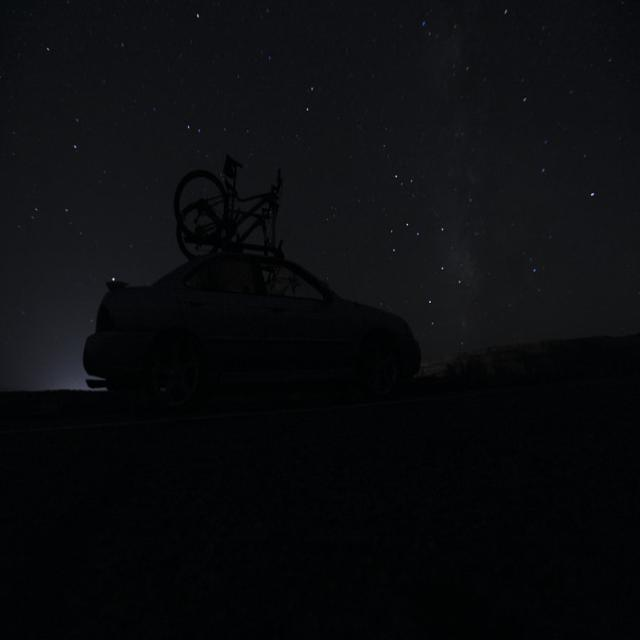Bicycle: (164, 143, 303, 264)
car: (72, 245, 432, 468)
